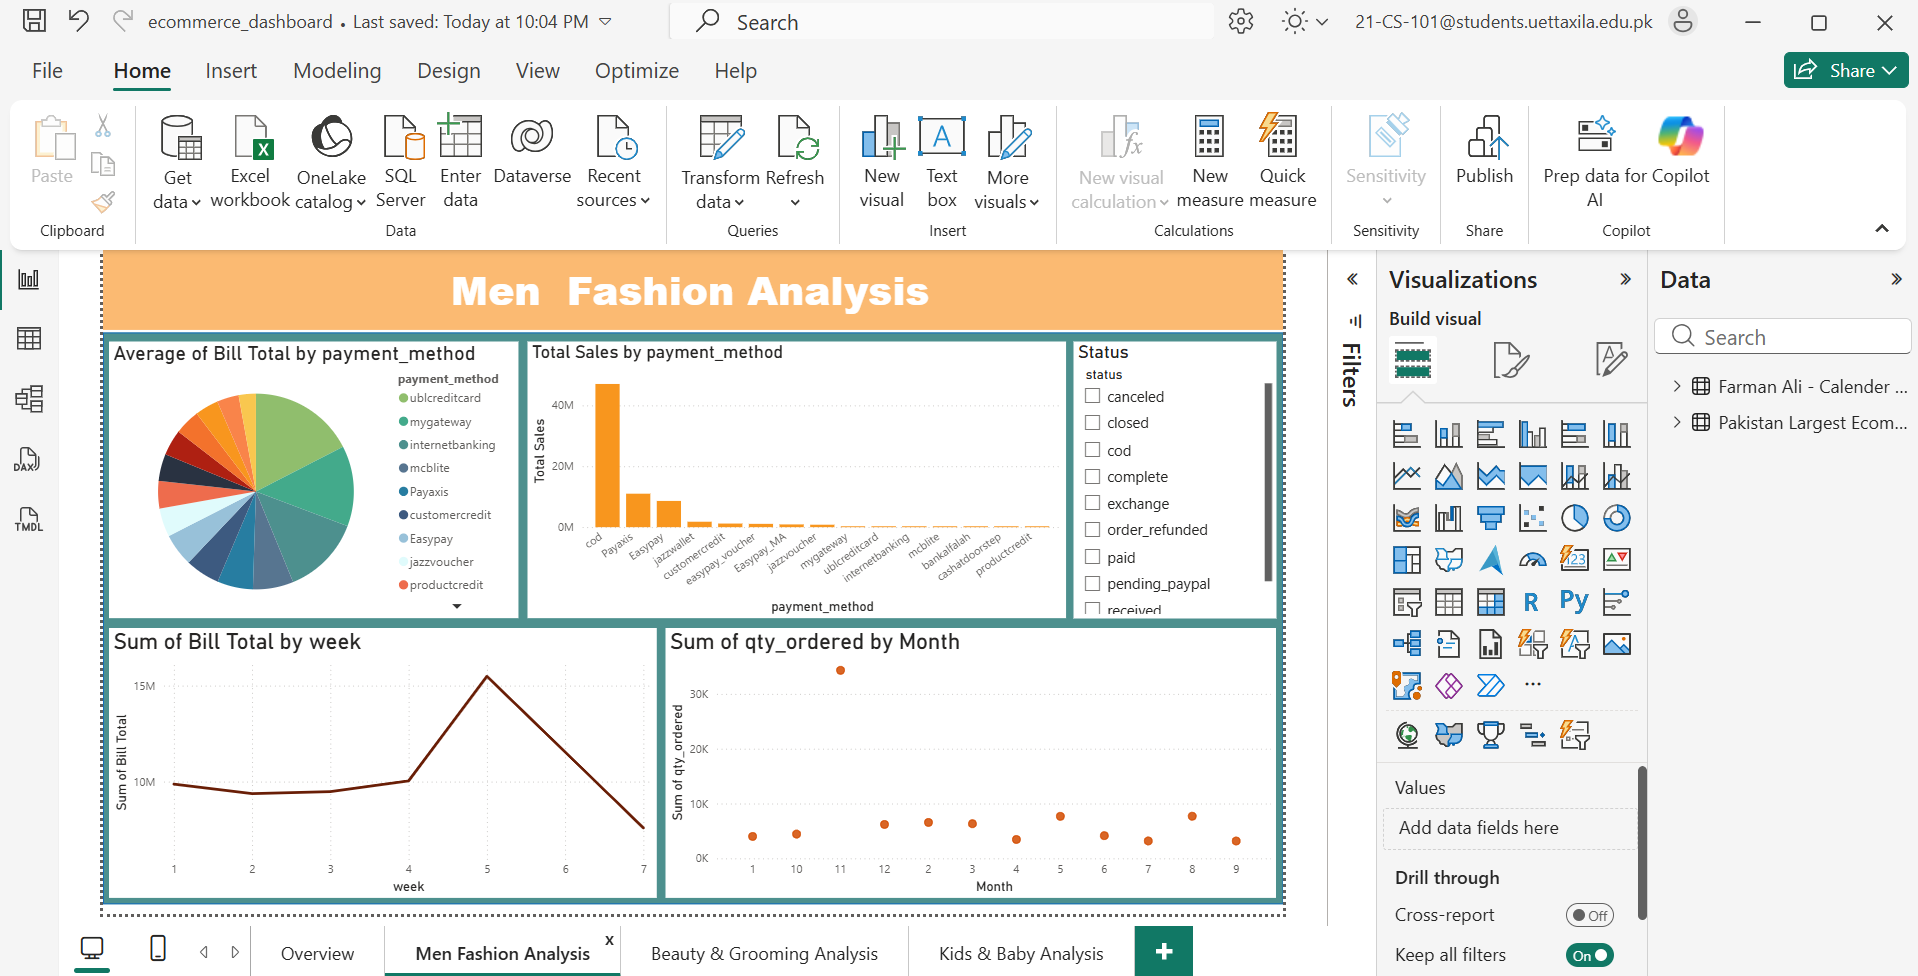

This screenshot's page, from the dashboard's own definition file:
{"tool":"powerbi","page":{"name":"Men Fashion Analysis","canvas":[1280,720],"ordinal":1},"visuals":[{"type":"shape","box":[0,90,1280,620],"z":0},{"type":"shape","box":[0,0,1280,86.7],"z":1000},{"type":"textbox","box":[371.7,8.3,538.3,70],"z":2000},{"type":"lineChart","fields":{"Category":["Pakistan Largest Ecommerce Data (2).week"],"Y":["Sum(Pakistan Largest Ecommerce Data (2).Bill Total)"]},"box":[6.7,410,594.2,292.5],"z":3000},{"type":"columnChart","fields":{"Category":["Pakistan Largest Ecommerce Data (2).payment_method"],"Y":["Pakistan Largest Ecommerce Data (2).Total Sales"]},"box":[460,100,584,300],"z":4000},{"type":"pieChart","fields":{"Category":["Pakistan Largest Ecommerce Data (2).payment_method"],"Y":["Avg(Pakistan Largest Ecommerce Data (2).Bill Total)"]},"box":[7,100,444,300],"z":5000},{"type":"slicer","title":"Status","fields":{"Values":["Pakistan Largest Ecommerce Data (2).status"]},"box":[1052,100,220,300],"z":6000},{"type":"scatterChart","fields":{"X":["Lubna Bhutto - Calender (3).Month"],"Y":["Sum(Pakistan Largest Ecommerce Data (2).qty_ordered)"]},"box":[610,410,661.7,292.5],"z":7000}]}

Visuals, with their boxes on the page's 1280x720 design canvas (x1, y1, x2, y2). These are canvas units, not pixel positions in the 1918x976 screenshot, which may show the page scaled, cropped or inside an application window:
shape: {"x1": 0, "y1": 90, "x2": 1280, "y2": 710}
shape: {"x1": 0, "y1": 0, "x2": 1280, "y2": 87}
textbox: {"x1": 372, "y1": 8, "x2": 910, "y2": 78}
lineChart - Pakistan Largest Ecommerce Data (2).week x Sum(Pakistan Largest Ecommerce Data (2).Bill Total): {"x1": 7, "y1": 410, "x2": 601, "y2": 702}
columnChart - Pakistan Largest Ecommerce Data (2).payment_method x Pakistan Largest Ecommerce Data (2).Total Sales: {"x1": 460, "y1": 100, "x2": 1044, "y2": 400}
pieChart - Pakistan Largest Ecommerce Data (2).payment_method x Avg(Pakistan Largest Ecommerce Data (2).Bill Total): {"x1": 7, "y1": 100, "x2": 451, "y2": 400}
"Status" slicer: {"x1": 1052, "y1": 100, "x2": 1272, "y2": 400}
scatterChart - Lubna Bhutto - Calender (3).Month x Sum(Pakistan Largest Ecommerce Data (2).qty_ordered): {"x1": 610, "y1": 410, "x2": 1272, "y2": 702}
